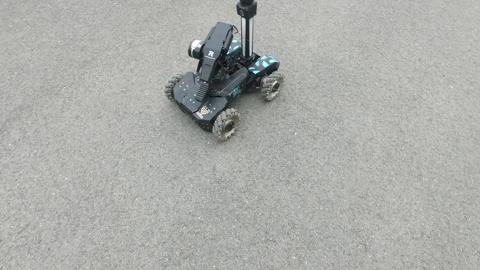chariot: (163, 1, 282, 143)
